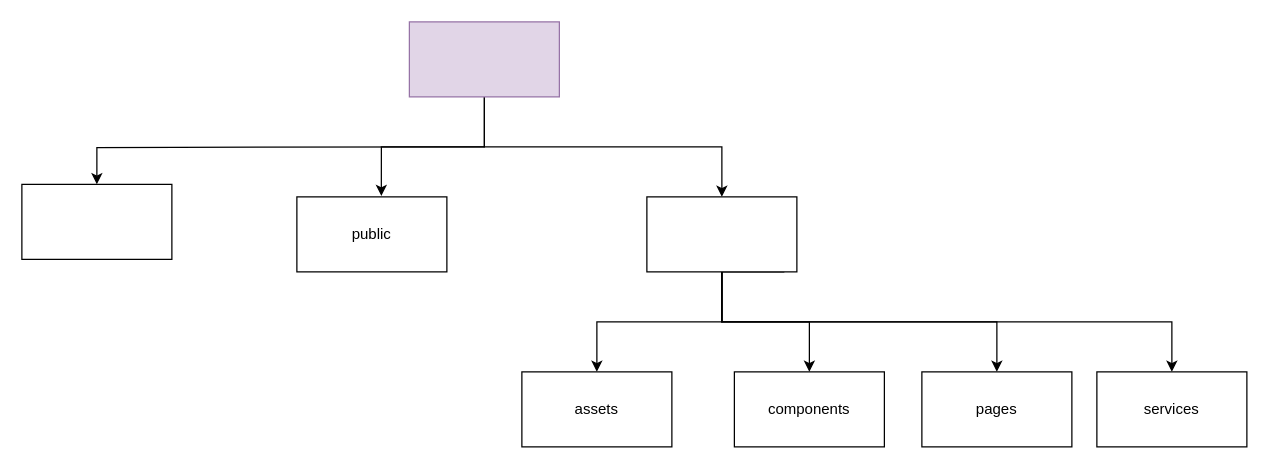
Some shapes in this 1269 by 469 pixel diagram are drawn without their labels. The shapes that lost their labels are listed below. From the top down, each one's centre as x and y in pixels, then its label:
At point (483, 59): "Frontend".
At point (96, 221): "nginx".
At point (721, 234): "src".
